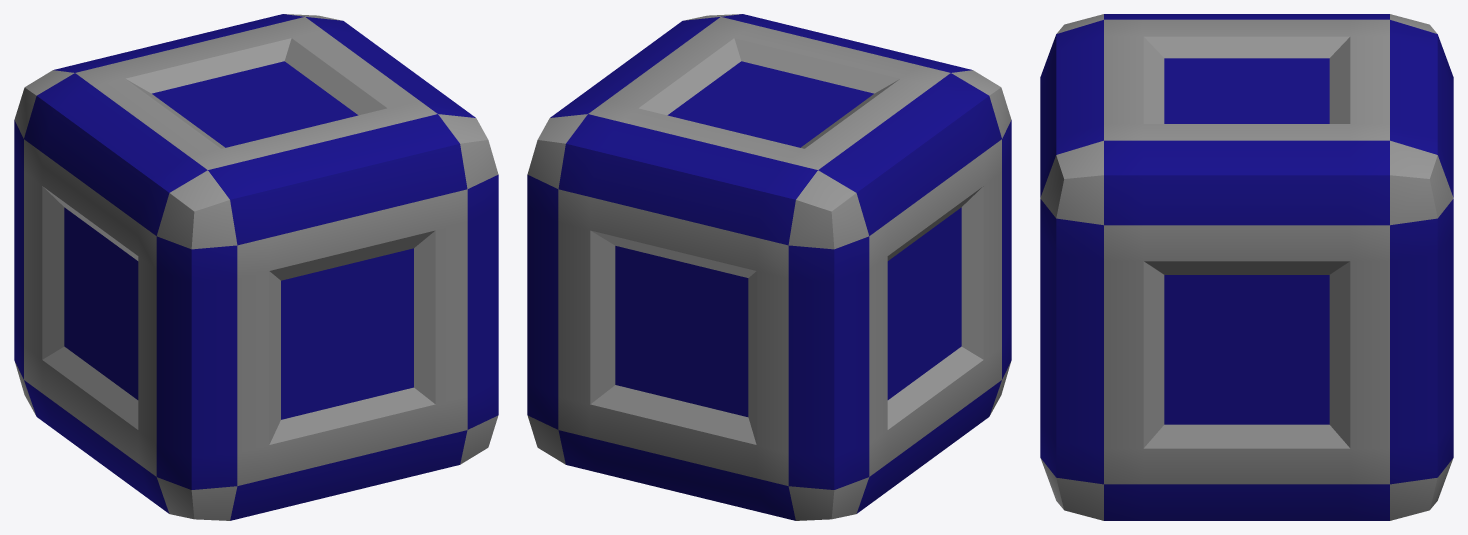
Rendered from Crate.fbx.
3 renders of one model, left to right at view 1: azimuth 30°, elevation 25°; view 2: azimuth 150°, elevation 25°; view 3: azimuth 270°, elevation 25°, orthographic. The views are drawn at different scales.
Parts seen in each view (by area): view 1: Crate; view 2: Crate; view 3: Crate.
Boxes of the visible parts, box(x1,y1,x2,y2) form: Crate: box(14, 14, 498, 520); Crate: box(527, 14, 1011, 520); Crate: box(1040, 14, 1453, 520).
Bounding box in the file's own units: 20 × 20 × 20.
2 materials, 2 textured.
